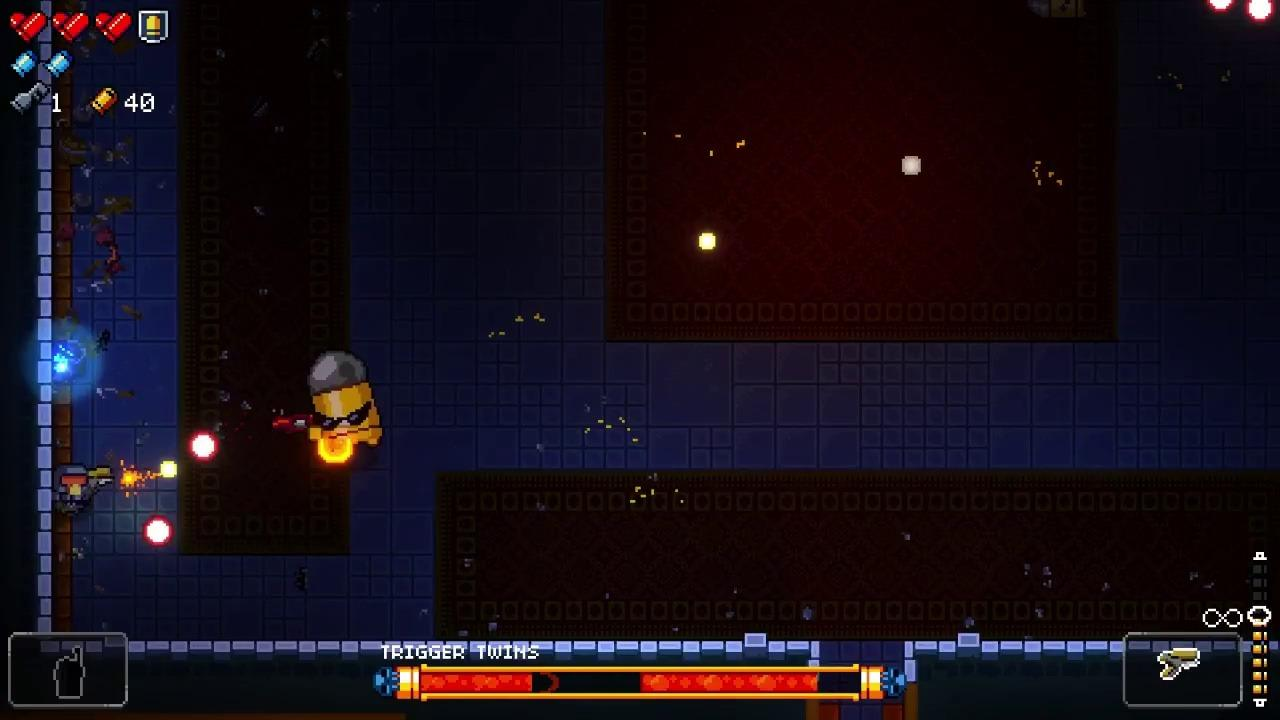boss_shades: (308, 349, 383, 448)
bullet: (187, 431, 219, 462), (145, 518, 174, 548), (1248, 1, 1274, 23)
player: (54, 465, 90, 515)
